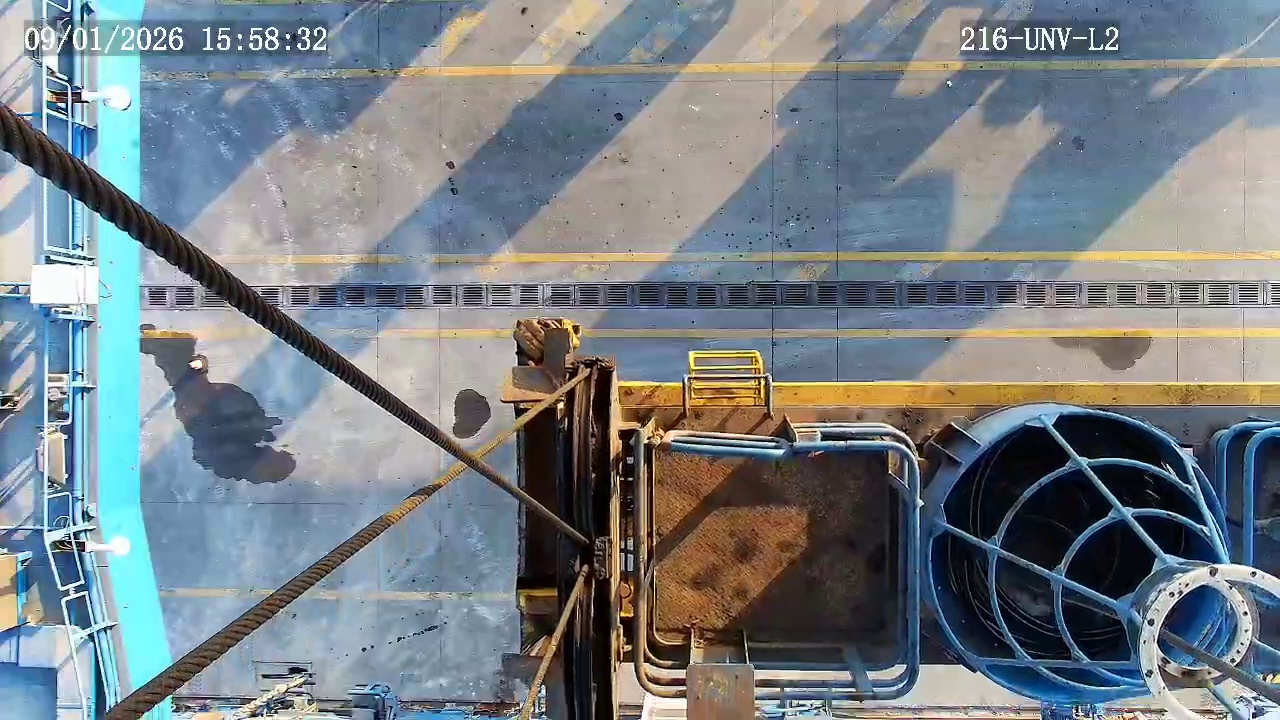left: (927, 412, 1231, 704)
